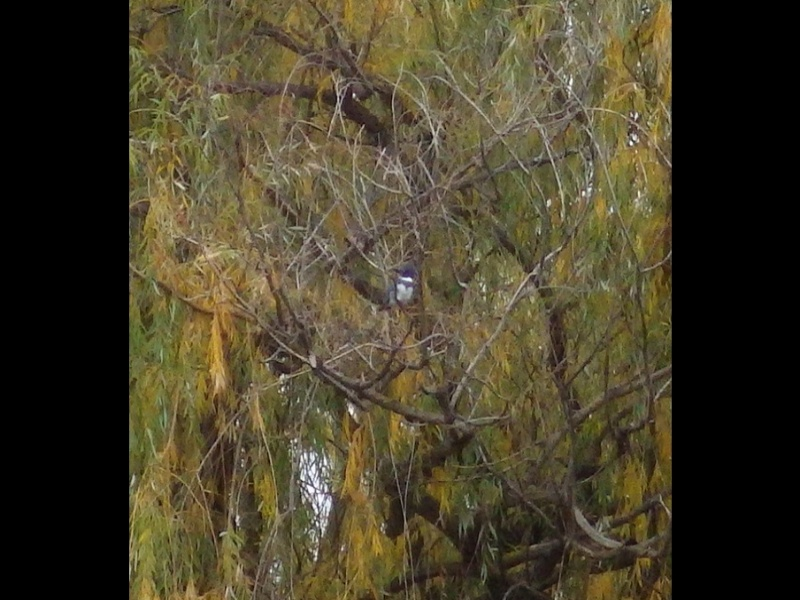kingfisher: (383, 255, 421, 312)
